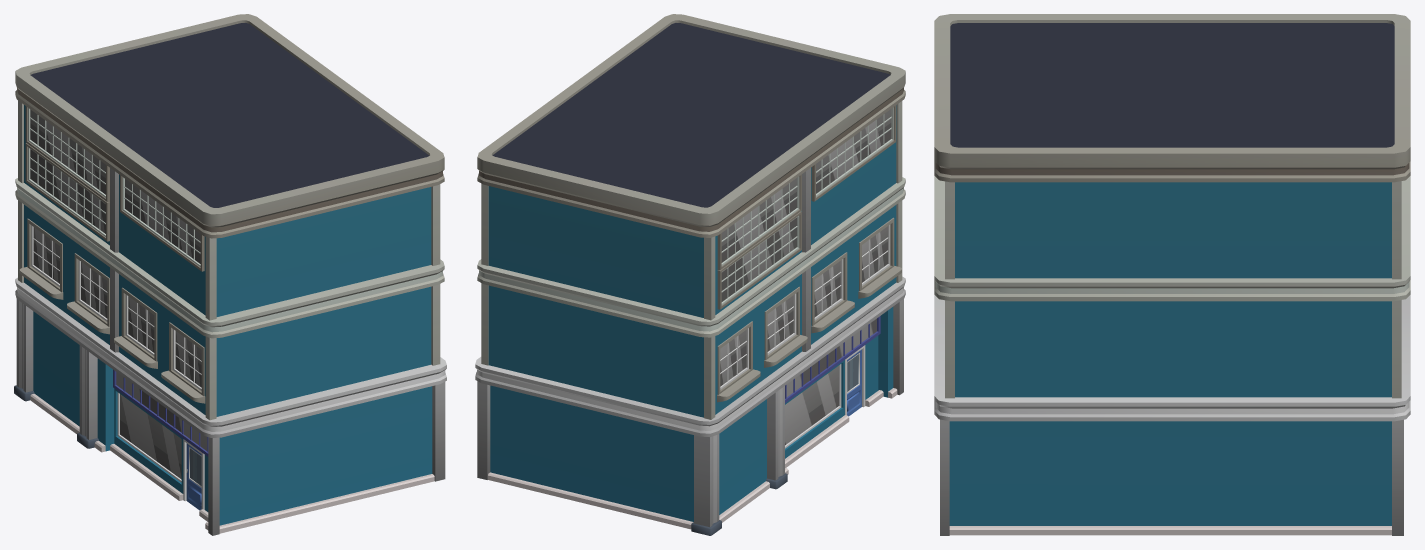
Rendered from Building_11_1_A.glb.
3 views of the same model, side by side, from view 1: azimuth 30°, elevation 25°; view 2: azimuth 150°, elevation 25°; view 3: azimuth 270°, elevation 25° (orthographic). The views are drawn at different scales.
Parts seen in each view (by area): view 1: Building_11_1_A; view 2: Building_11_1_A; view 3: Building_11_1_A.
Boxes of the visible parts, x1,y1,x2,y2 form: Building_11_1_A: [14, 14, 446, 535]; Building_11_1_A: [475, 14, 905, 535]; Building_11_1_A: [934, 14, 1410, 535].
Bounding box in the file's own units: 8.27 × 10.34 × 11.63.
Materials: 3 (3 with a texture image).
